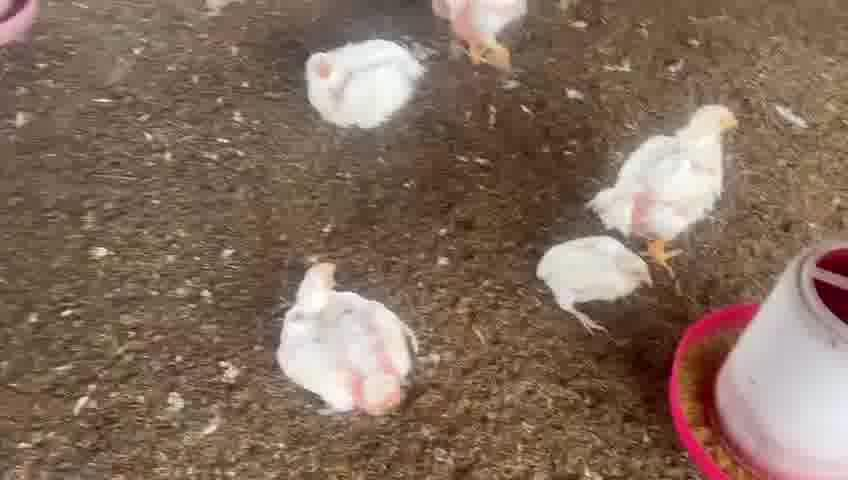AbNormal: (278, 258, 414, 417), (305, 36, 428, 134), (538, 233, 654, 335)
Normal: (600, 105, 739, 261)
